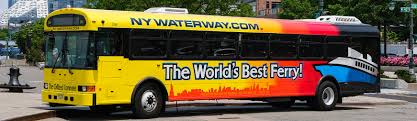bus: (40, 6, 387, 118)
